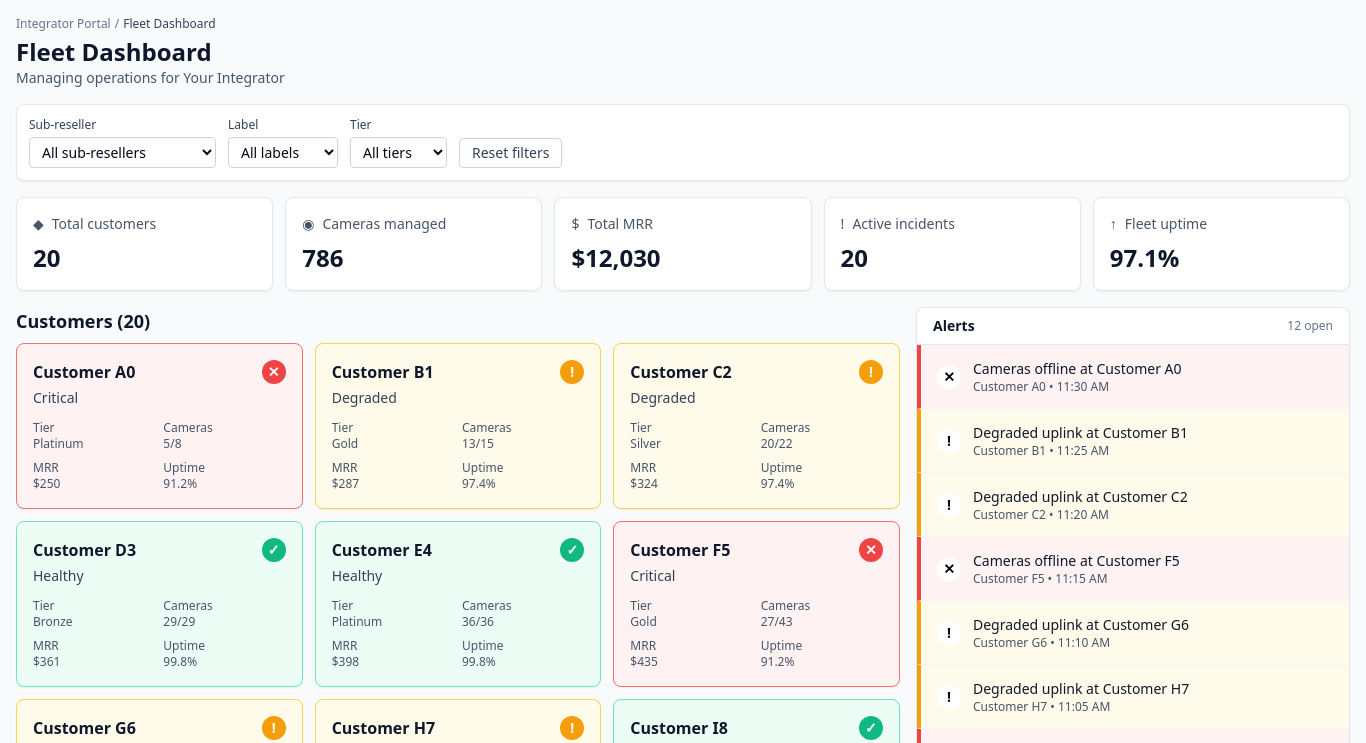
Test: FleetDashboard › filters update the visible customer set
# Pick a tier filter — expect the count to drop to just that tier's cards.
Step 1. Select "Platinum" in the dropdown with test id "filter-tier" → (398, 152), box left=350, top=137, right=447, bottom=168
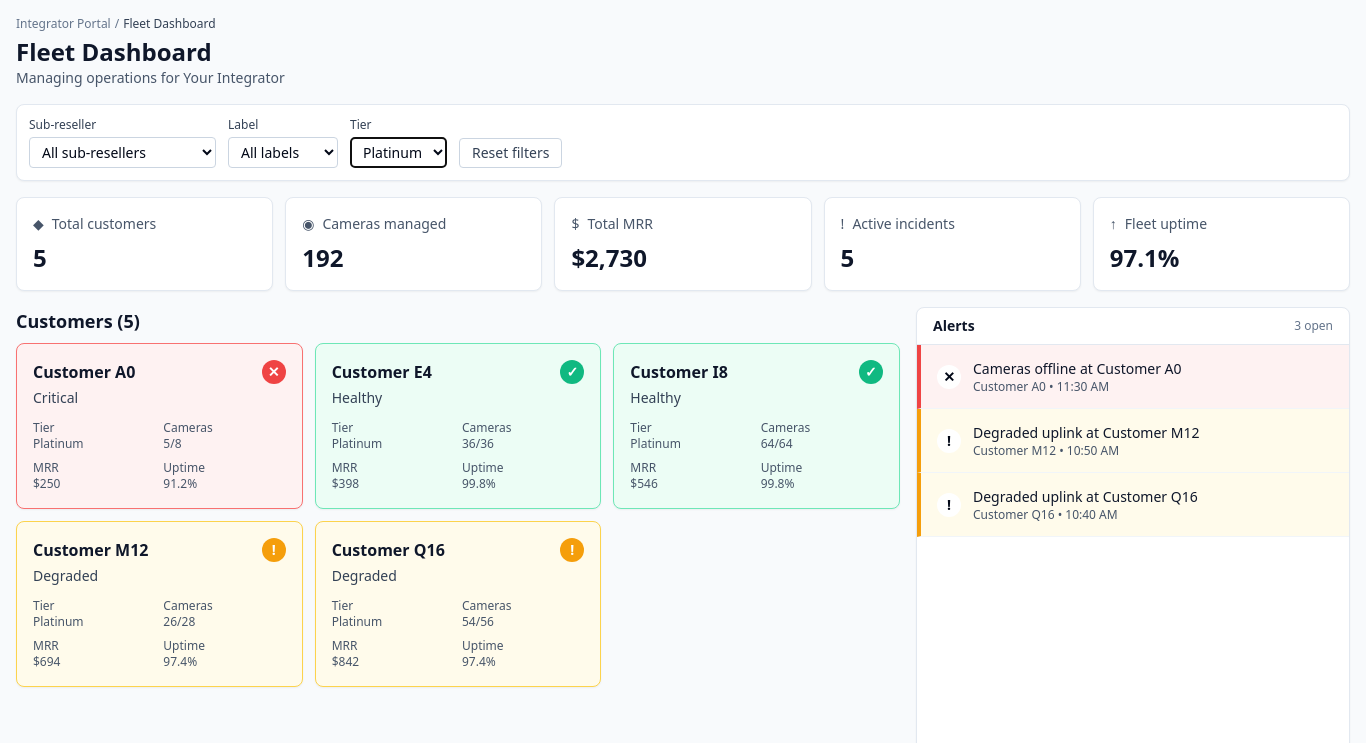
Expected: the text "Platinum" below "Critical" is shown, left=33, top=435, right=84, bottom=452
Expected: the number of links is 5, left=16, top=343, right=303, bottom=509; left=315, top=343, right=601, bottom=509; left=613, top=343, right=900, bottom=509; left=16, top=521, right=303, bottom=687; left=315, top=521, right=601, bottom=687
# Reset restores all 20.
Step 2. Click the button with test id "filter-reset" → (511, 153), box left=459, top=138, right=562, bottom=168
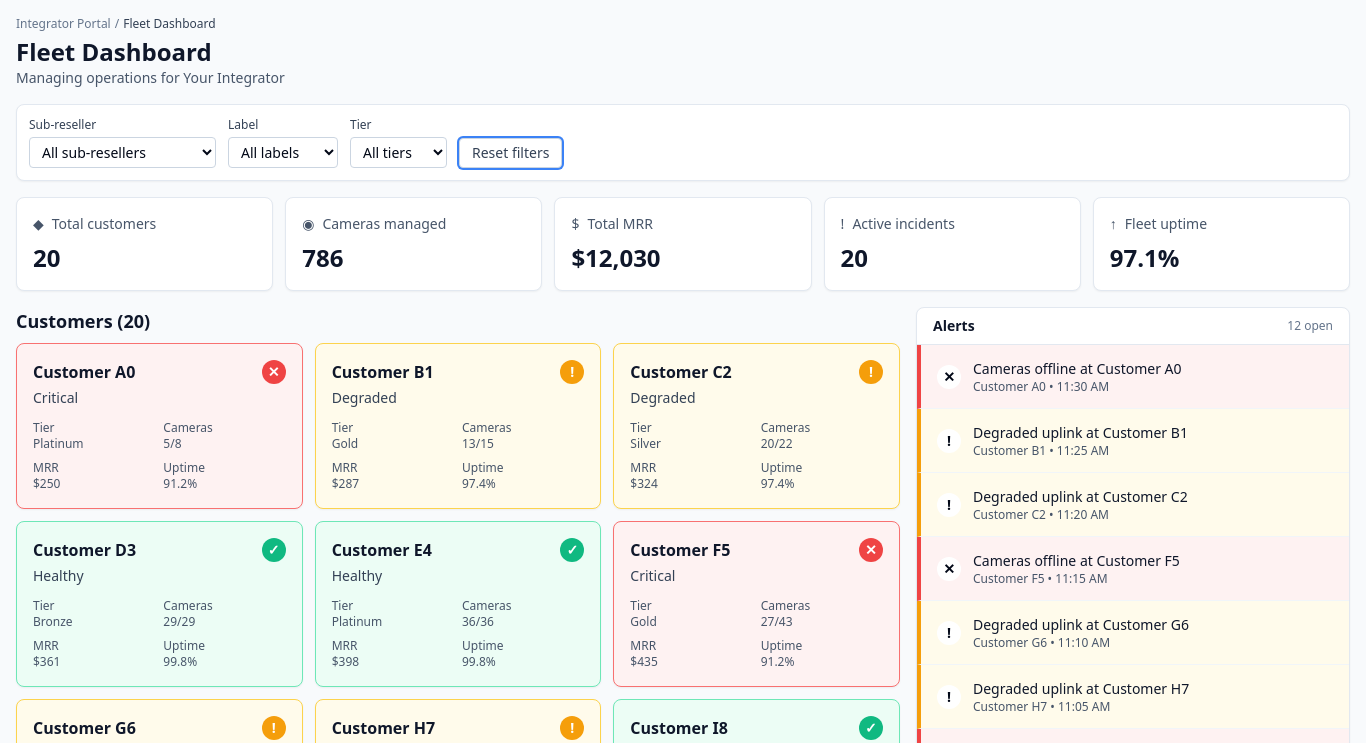
Expected: the number of links is 20
